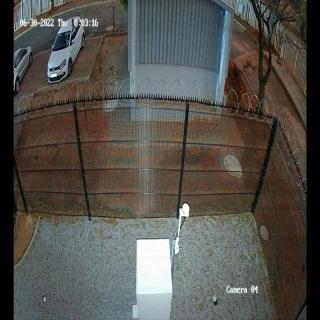car: (47, 21, 85, 82), (13, 46, 32, 98)
